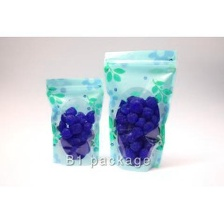snack: (97, 43, 182, 174), (40, 73, 107, 170)
